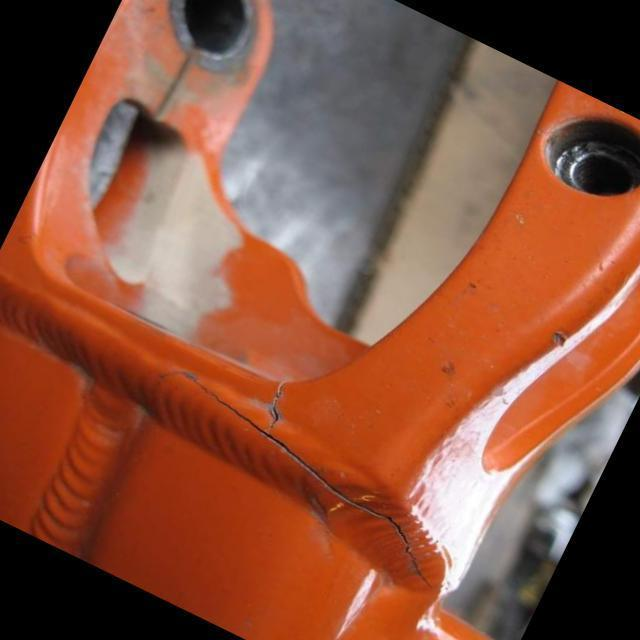defect: (155, 368, 447, 590)
